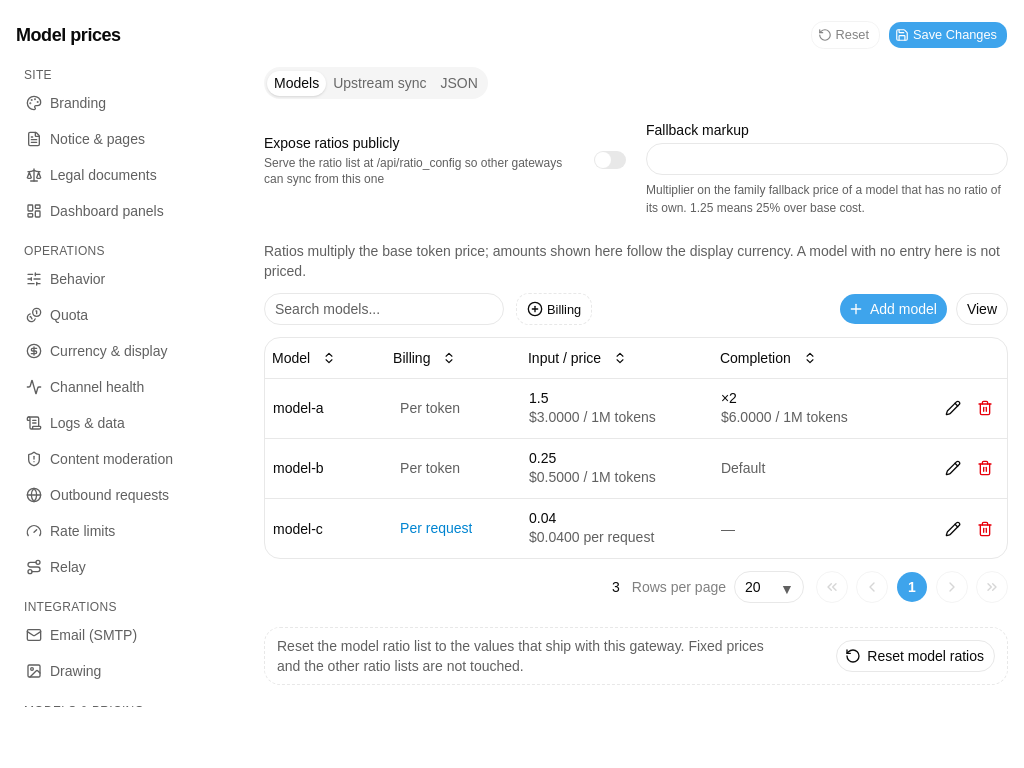
model prices › lists priced models with their billing mode and filters by name
expect the text "$3.0000 / 1M tokens" is shown: met, box x1=529 y1=409 x2=656 y2=425
expect the text "model-a" is shown: met, box x1=273 y1=398 x2=324 y2=418
Type "model-b" into the field with placeholder "Search models..." at (384, 309), box x1=264 y1=293 x2=504 y2=325
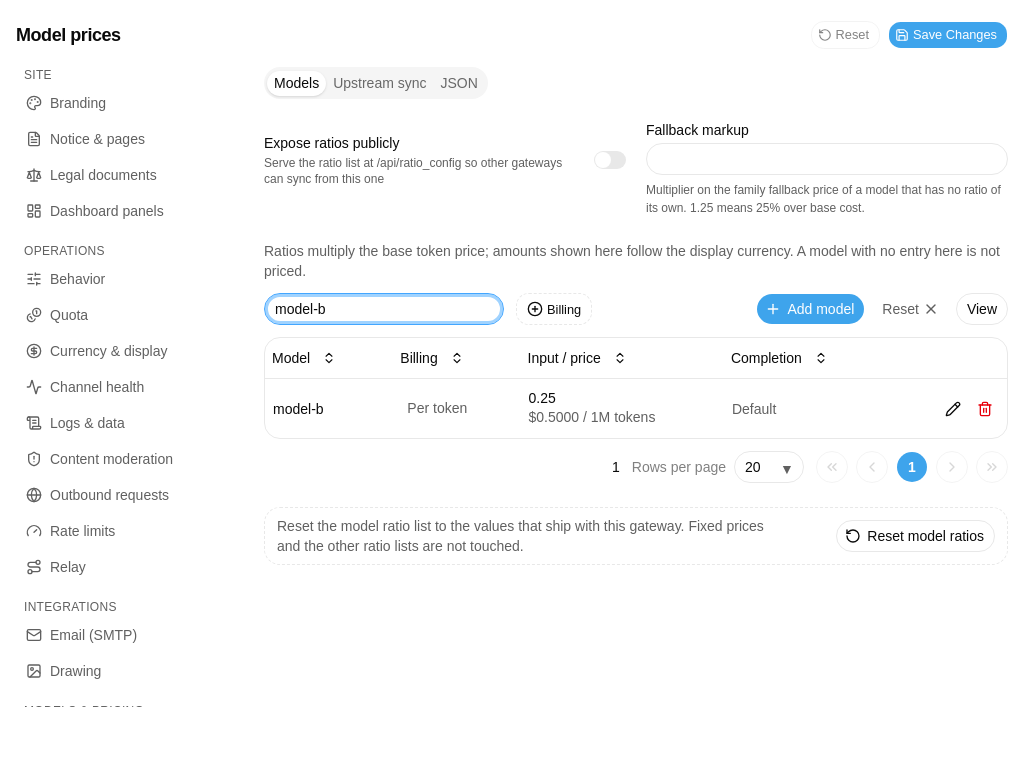
expect the text "model-b" is shown: met, box x1=273 y1=398 x2=324 y2=418
expect the text "model-a" is gone: met
